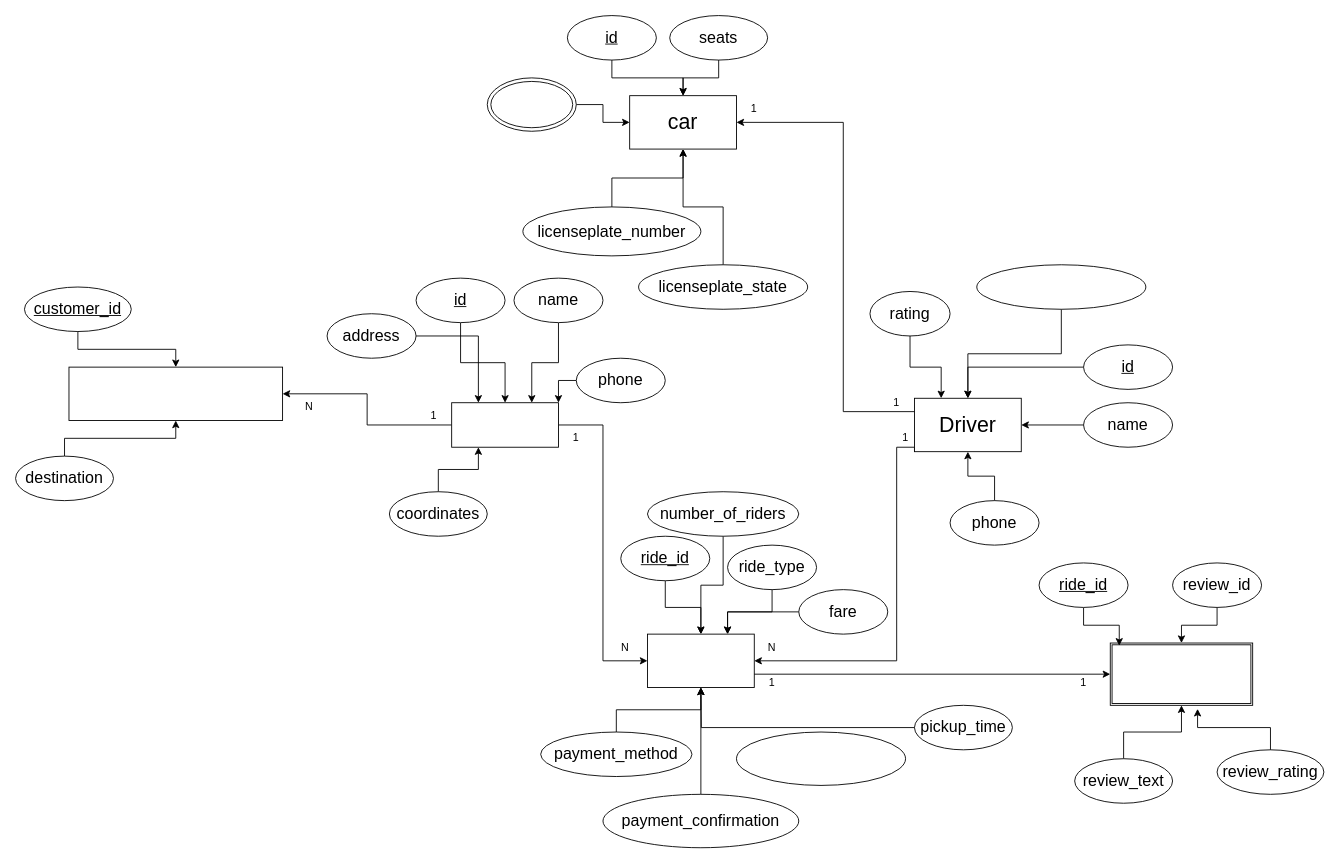
Some shapes in this 1339 by 863 pixel diagram are drawn without their labels. Here are the shapes that lost their labels. From the top down, the box of each, then its label:
(486, 77, 576, 131): features
(976, 264, 1146, 309): registration_number
(68, 366, 283, 421): favorite_destinations
(451, 402, 558, 447): Customer
(647, 633, 754, 688): ride
(1109, 642, 1253, 705): ride_review
(736, 731, 906, 785): destination_address
